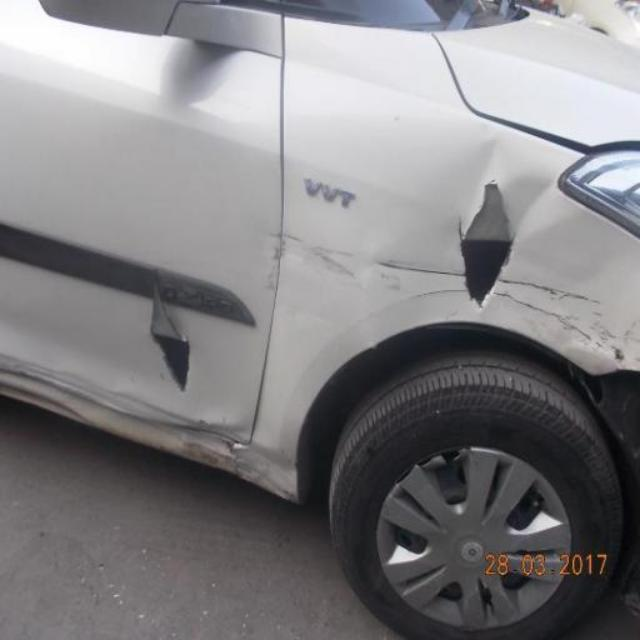crack: (458, 178, 520, 308), (143, 263, 198, 388)
scratch: (0, 354, 294, 494), (263, 230, 460, 303), (501, 271, 640, 367)
